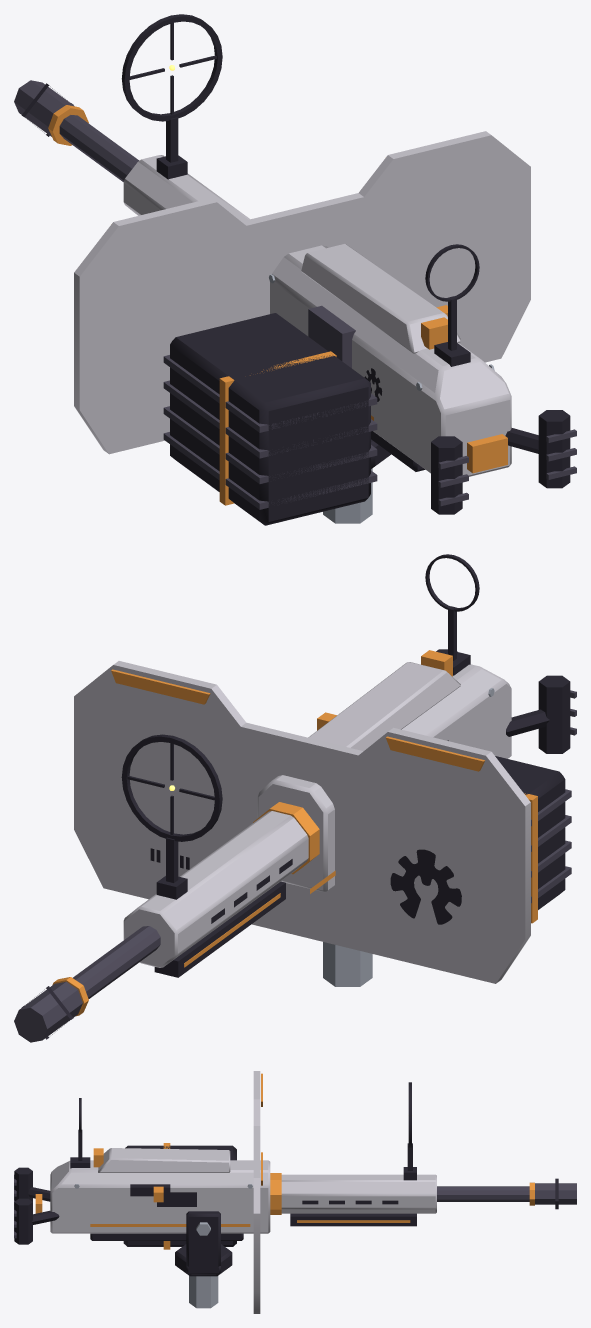
File: mount_r41_lmg.glb
3 renders of one model, top to bottom at view 1: azimuth 30°, elevation 25°; view 2: azimuth 150°, elevation 25°; view 3: azimuth 270°, elevation 25°, orthographic. The views are drawn at different scales.
Visible parts, largest first — view 1: body, feed_cover, trigger, yoke; view 2: body, feed_cover, body_fine, yoke; view 3: body, yoke, feed_cover, body_fine, charging_handle.
Boxes of the visible parts, x1,y1,x2,y2 form: body: (14, 14, 576, 525); feed_cover: (301, 244, 460, 353); trigger: (467, 434, 507, 473); yoke: (323, 439, 391, 523); body: (14, 554, 576, 1042); feed_cover: (308, 650, 460, 751); body_fine: (21, 740, 461, 1039); yoke: (323, 942, 372, 986); body: (14, 1071, 576, 1313); yoke: (175, 1211, 232, 1308); feed_cover: (93, 1148, 230, 1172); body_fine: (90, 1178, 558, 1226); charging_handle: (130, 1184, 170, 1202).
Size of the model in its own units: 0.46 by 0.36 by 0.8445.
